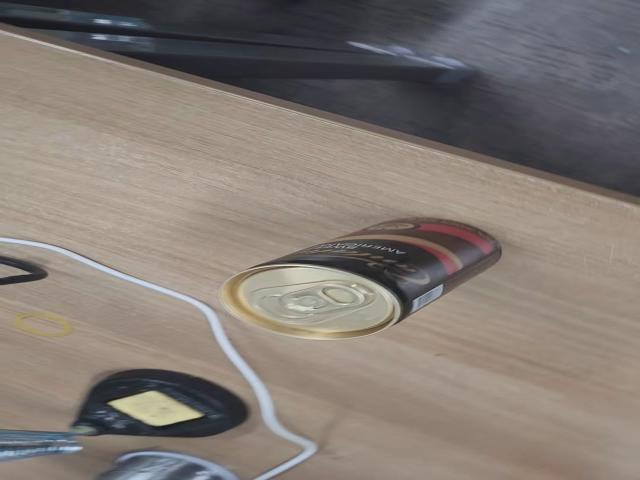Canned_drinks: (227, 221, 512, 330)
